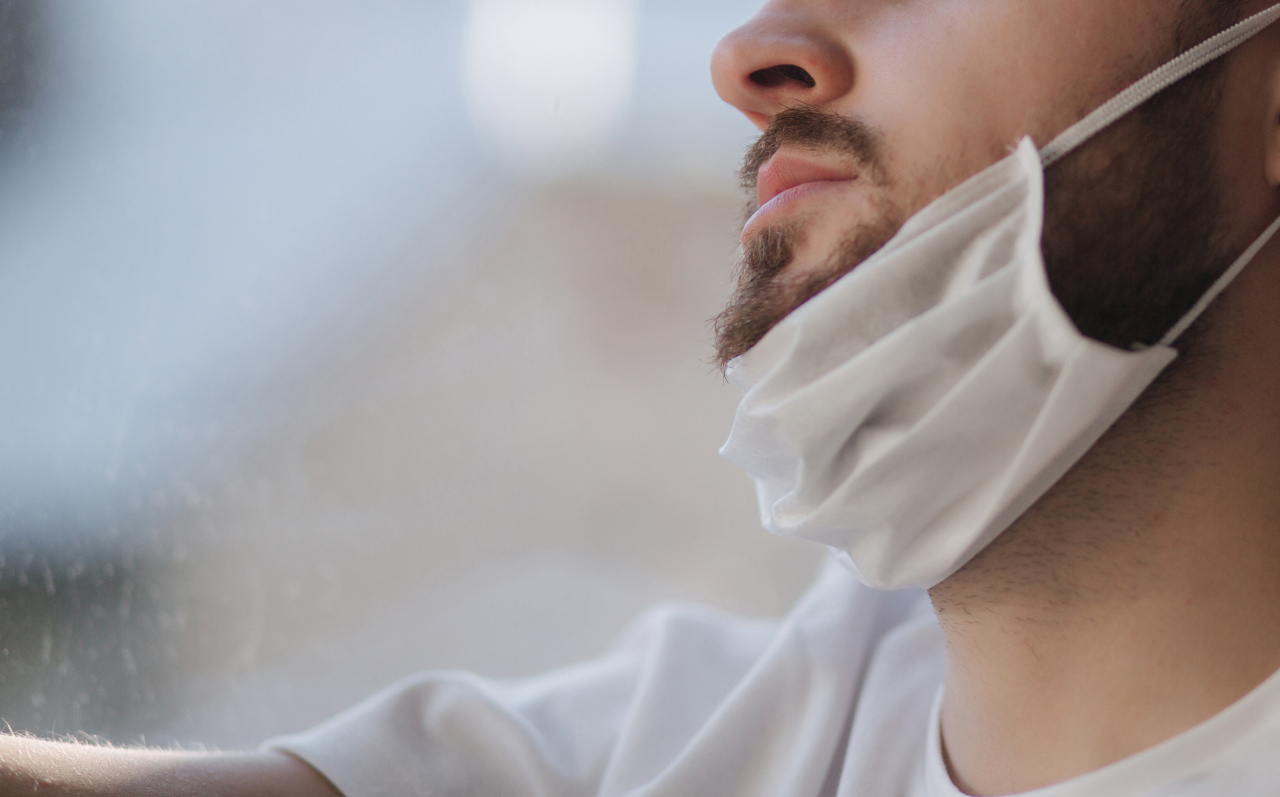with_incorrect_mask: (709, 1, 1225, 506)
